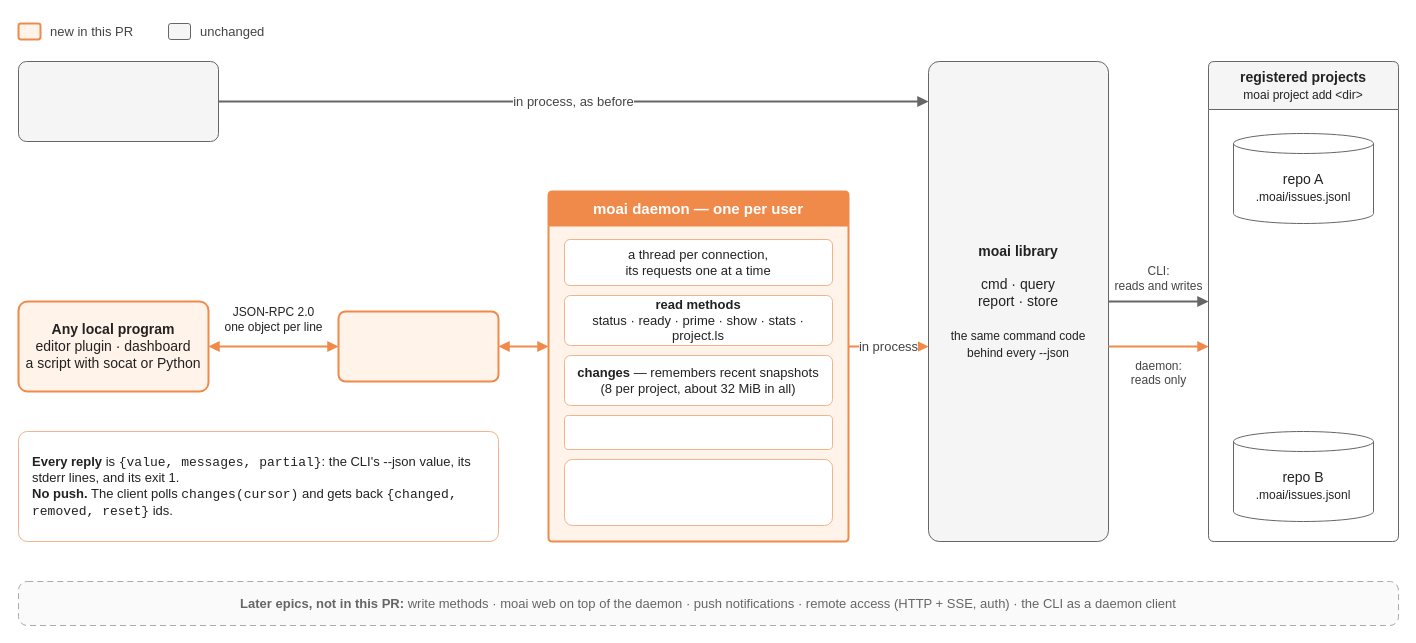
This 1416x643 diagram has some shape labels left out. Here are the shapes that lost their labels. From the top down, the centre of each, then its label:
At pixel 118 101: "moai CLI people · agents · hooks".
At pixel 418 346: "daemon.socket Unix socket, mode 0700 $XDG_RUNTIME_DIR/moai".
At pixel 698 432: "hello · ping · daemon.shutdown".
At pixel 698 492: "a container per request (src/side.rs): its notices, project, language, time zone".
